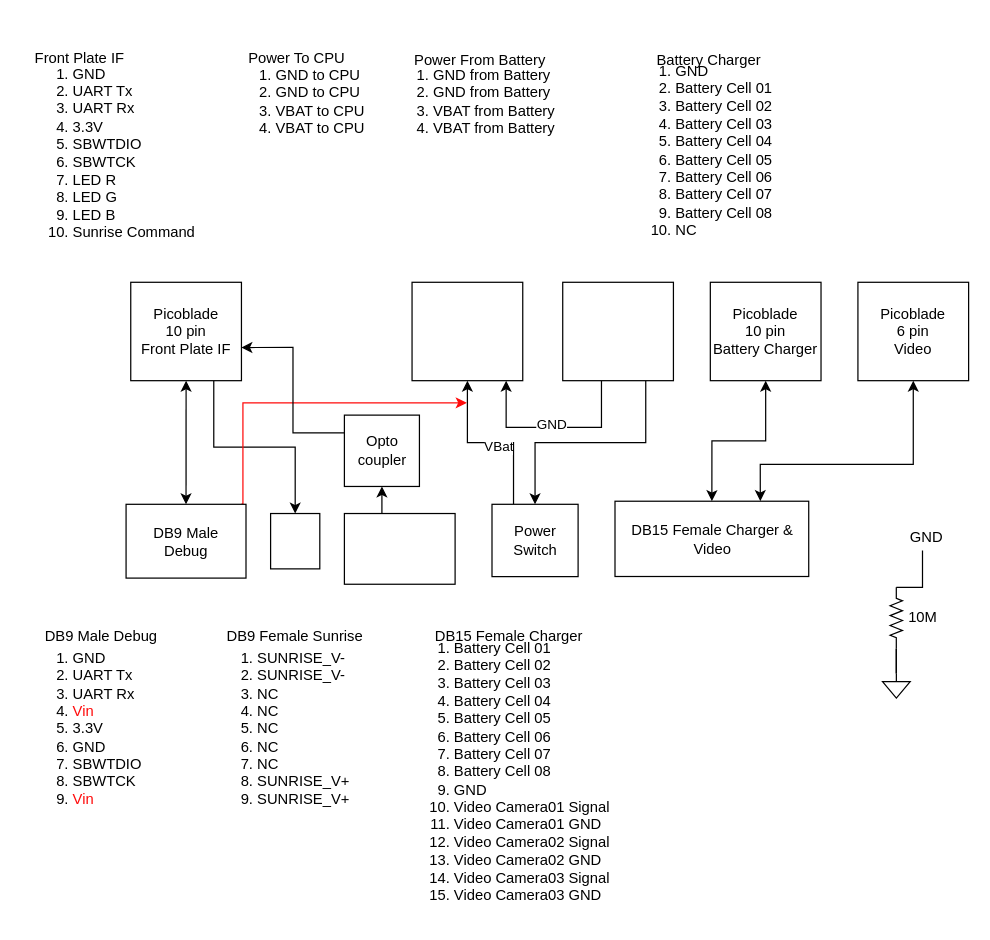
This 990x940 diagram has some shape labels left out. The shapes that lost their labels are listed below. From the top down, each one's box as (x1, y1, x2, y2) in pixels, then its label:
(411, 281, 523, 381): Picoblade 4 pin Power to CPU
(561, 281, 673, 381): Picoblade 4 pin Power From Battery
(269, 512, 320, 569): LED RGB
(343, 512, 455, 584): DB9 Female Sunrise IF
